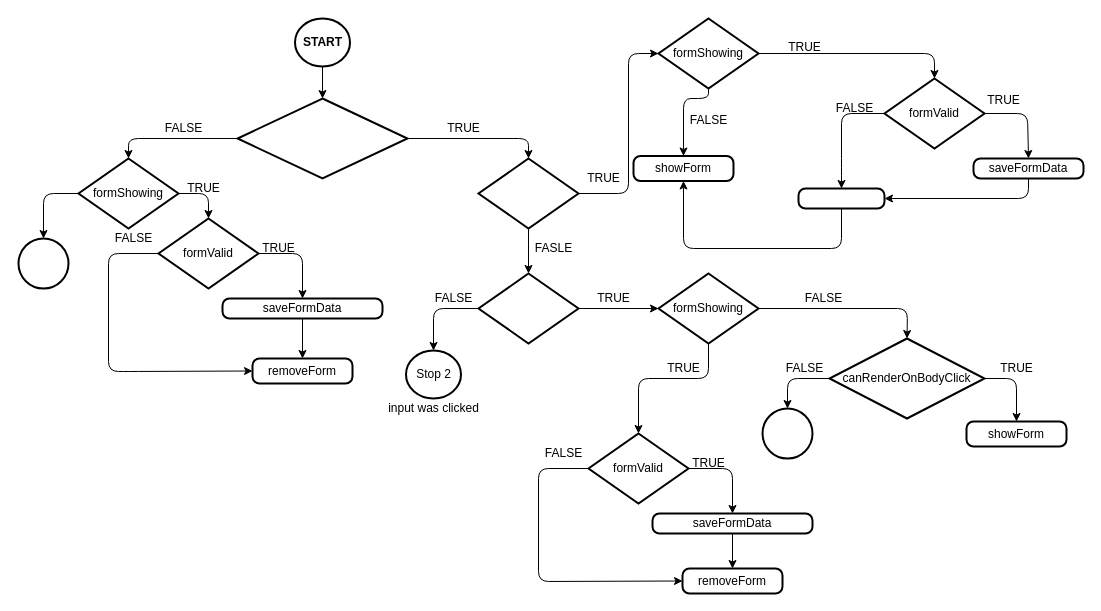
The diagram is 1101 pixels wide and 611 high, and some of its shapes have lost their labels. The centre of each missing label's shape, as x and y in pixels:
"bodyClick" belongs at (x=528, y=308).
"buttonClick" belongs at (x=528, y=193).
"buttonClick, bodyClick, inputClick" belongs at (x=322, y=138).
"clearForm" belongs at (x=841, y=198).
"Stop 1" belongs at (x=787, y=433).
"Stop 3" belongs at (x=43, y=263).
